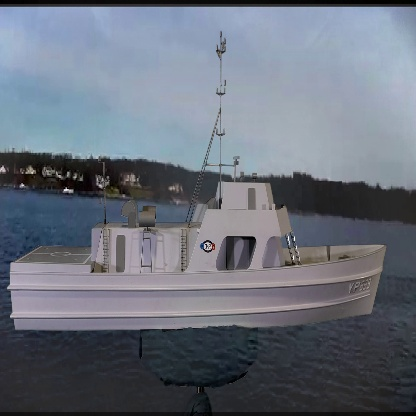YP689: (7, 29, 386, 335)
